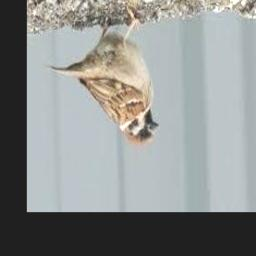Sparrow: (47, 9, 160, 145)
